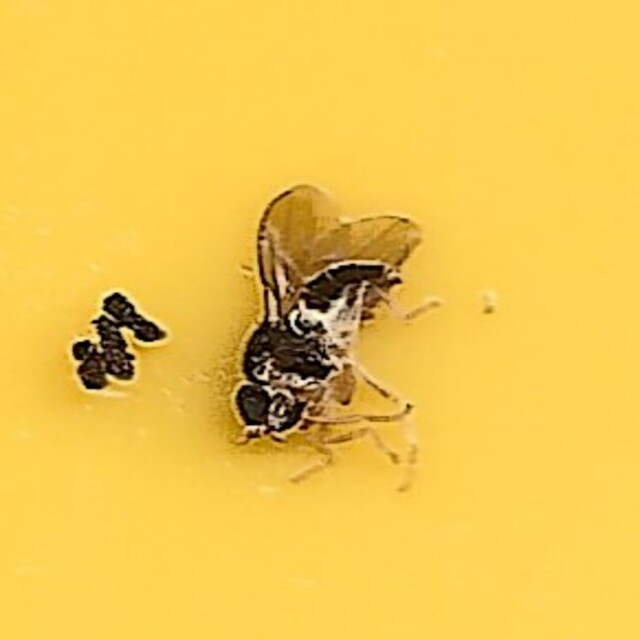Brachycera: (220, 182, 420, 458)
